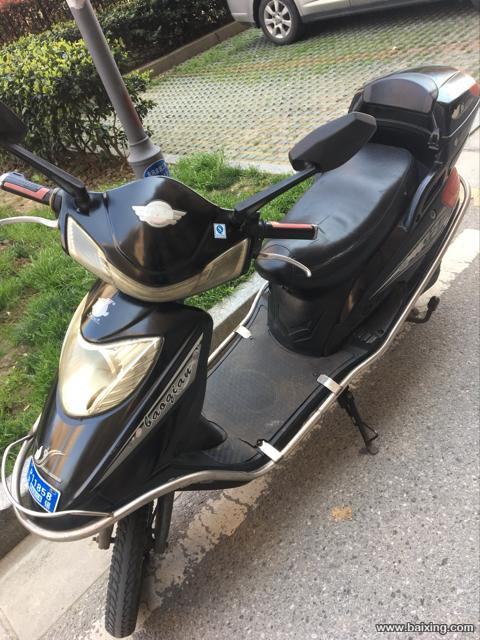电动车: (1, 66, 476, 637)
